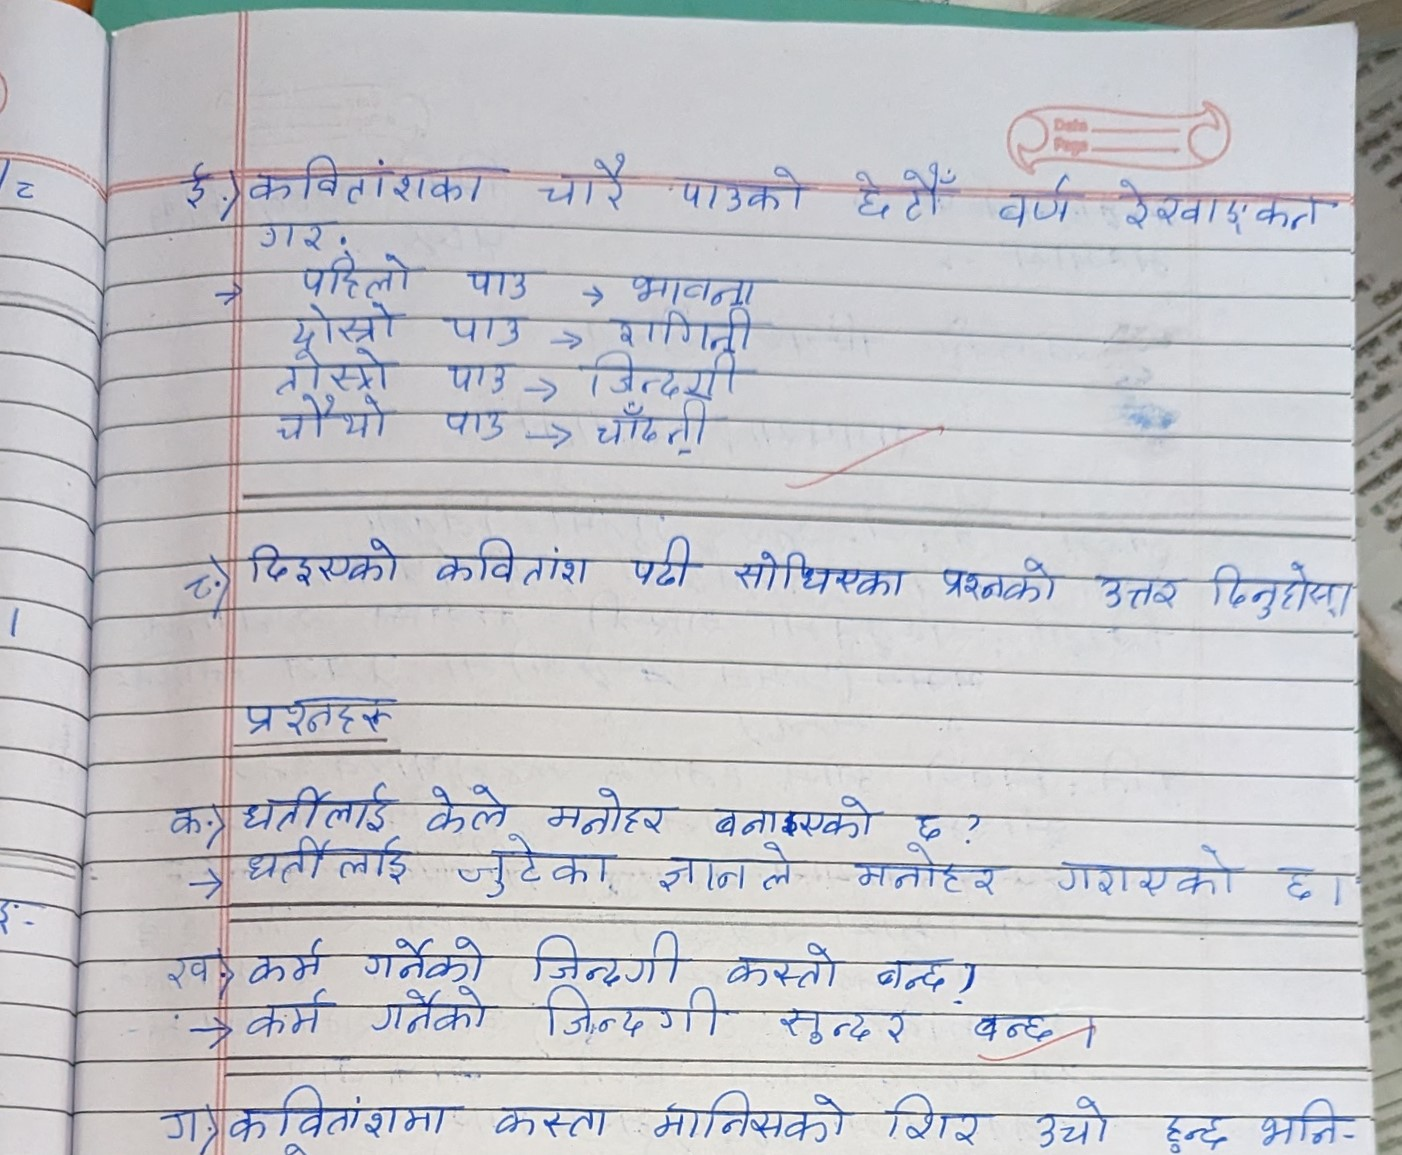text: (1107, 160, 1334, 254), (222, 1080, 448, 1145), (246, 153, 493, 210), (1041, 842, 1246, 904), (651, 1086, 850, 1148), (454, 834, 619, 902), (543, 984, 723, 1047), (661, 153, 808, 221), (841, 842, 1001, 904), (731, 546, 904, 598), (241, 538, 405, 593), (523, 931, 688, 985), (240, 780, 395, 837), (241, 838, 415, 888), (1206, 557, 1341, 621), (573, 350, 744, 401), (429, 538, 588, 591), (848, 156, 957, 231), (704, 793, 878, 838), (654, 839, 798, 894), (235, 690, 403, 736), (991, 166, 1085, 247), (539, 782, 677, 837), (930, 551, 1061, 608), (356, 931, 493, 983), (607, 306, 757, 350), (588, 398, 711, 451), (482, 1093, 618, 1140), (534, 154, 633, 217), (265, 395, 392, 444), (366, 985, 491, 1034), (877, 1089, 984, 1146), (772, 1005, 916, 1047), (626, 265, 769, 306), (1026, 1090, 1117, 1152), (277, 345, 388, 394), (300, 251, 416, 298), (722, 941, 834, 989), (289, 302, 404, 346), (1255, 1093, 1340, 1150), (422, 780, 512, 832), (245, 987, 334, 1040), (970, 1001, 1060, 1051), (1149, 1105, 1240, 1154), (243, 936, 333, 984), (1089, 564, 1182, 609), (174, 146, 224, 228), (628, 534, 698, 590), (871, 945, 953, 993), (440, 401, 516, 446), (460, 258, 532, 302), (254, 215, 331, 255), (441, 355, 514, 397), (442, 313, 527, 343), (1272, 858, 1323, 908), (156, 1100, 204, 1145), (162, 798, 208, 839), (180, 560, 220, 609), (164, 949, 211, 987), (909, 803, 947, 843)
